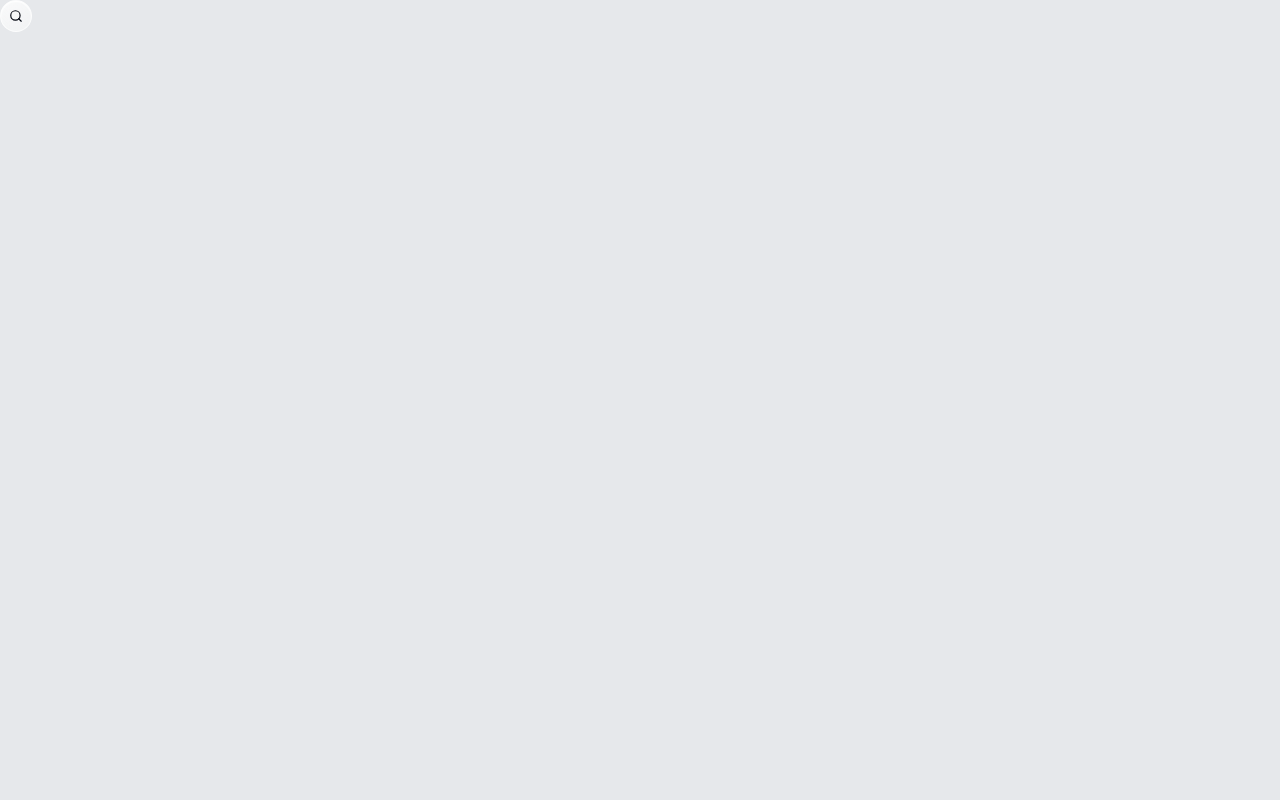
Test case: clears the query and restores focus when the shortcut closes search
This screenshot has width=1280, height=800.
Press k
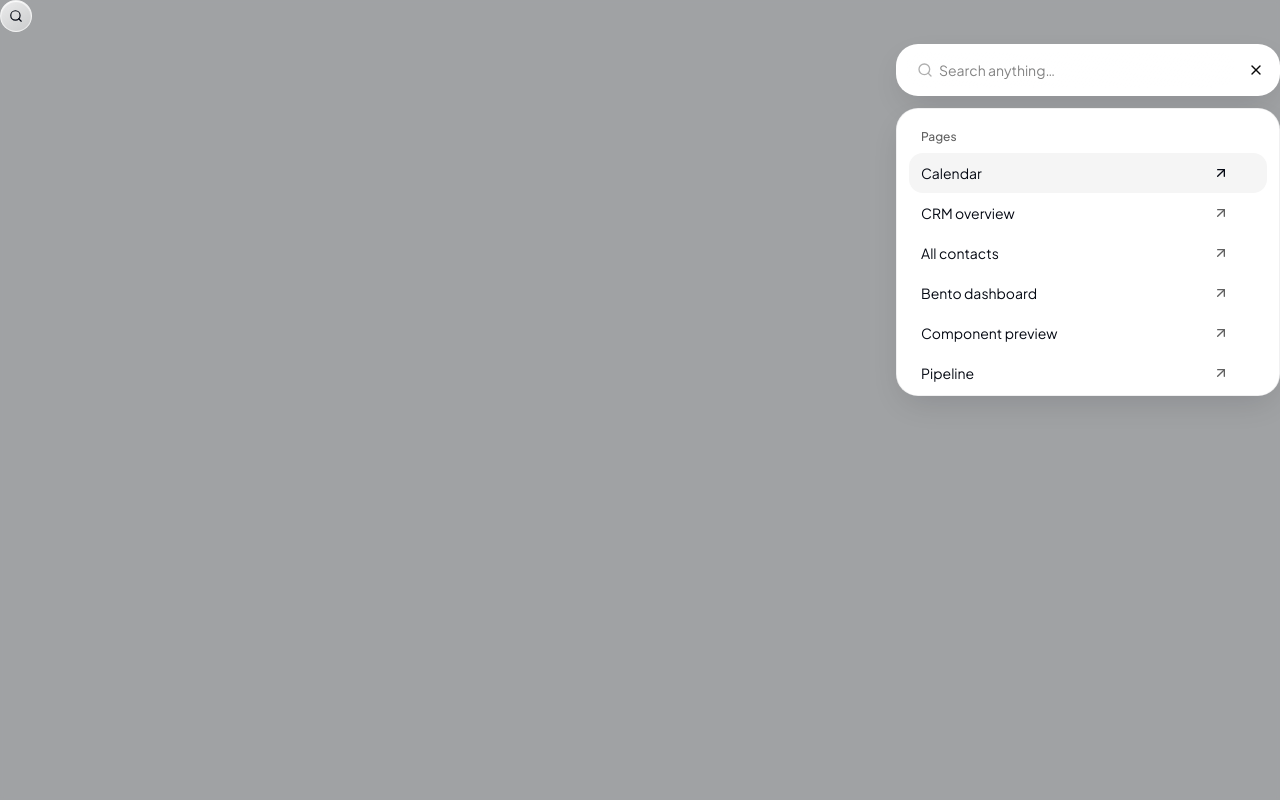
Type "Calendar" into the dropdown.
click(1084, 70); type("Calendar")  # box x1=933 y1=60 x2=1235 y2=80
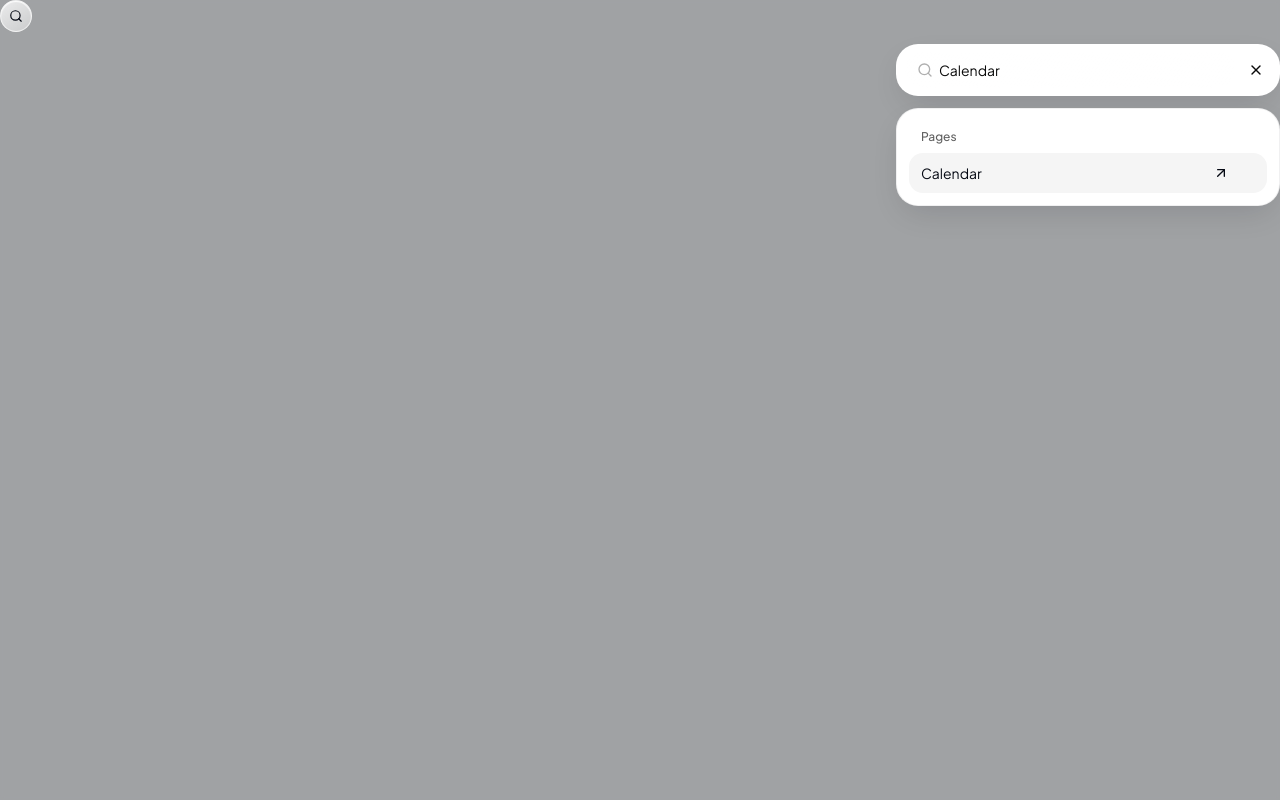
Press k
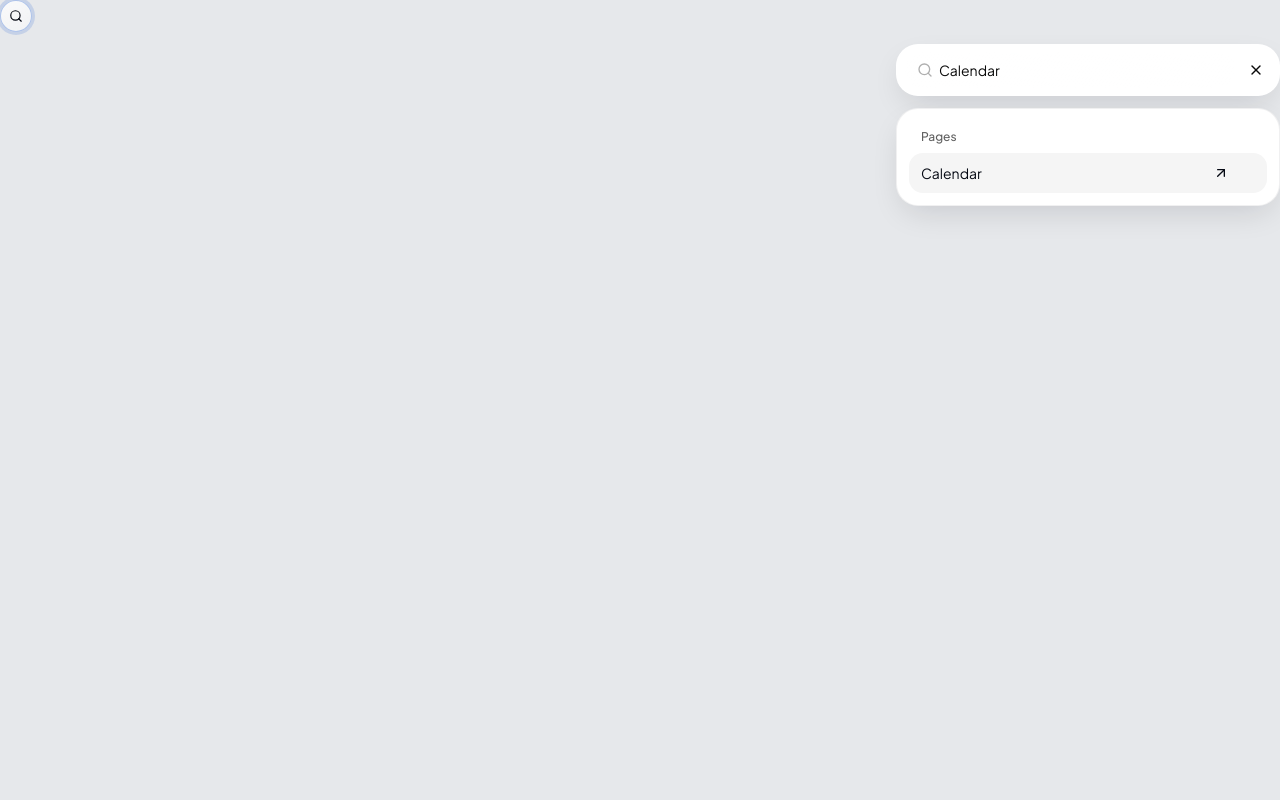
Press k
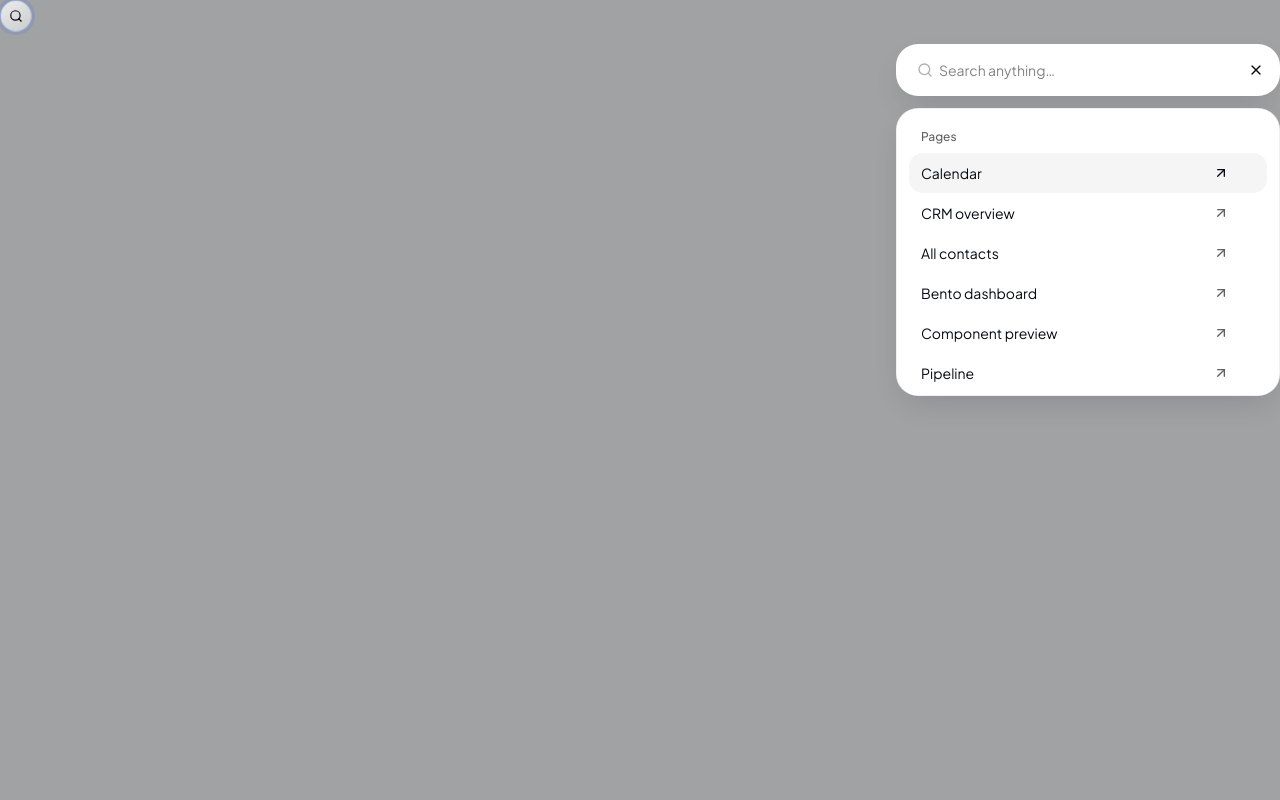
Expected: the dropdown is empty, x1=933 y1=60 x2=1235 y2=80
